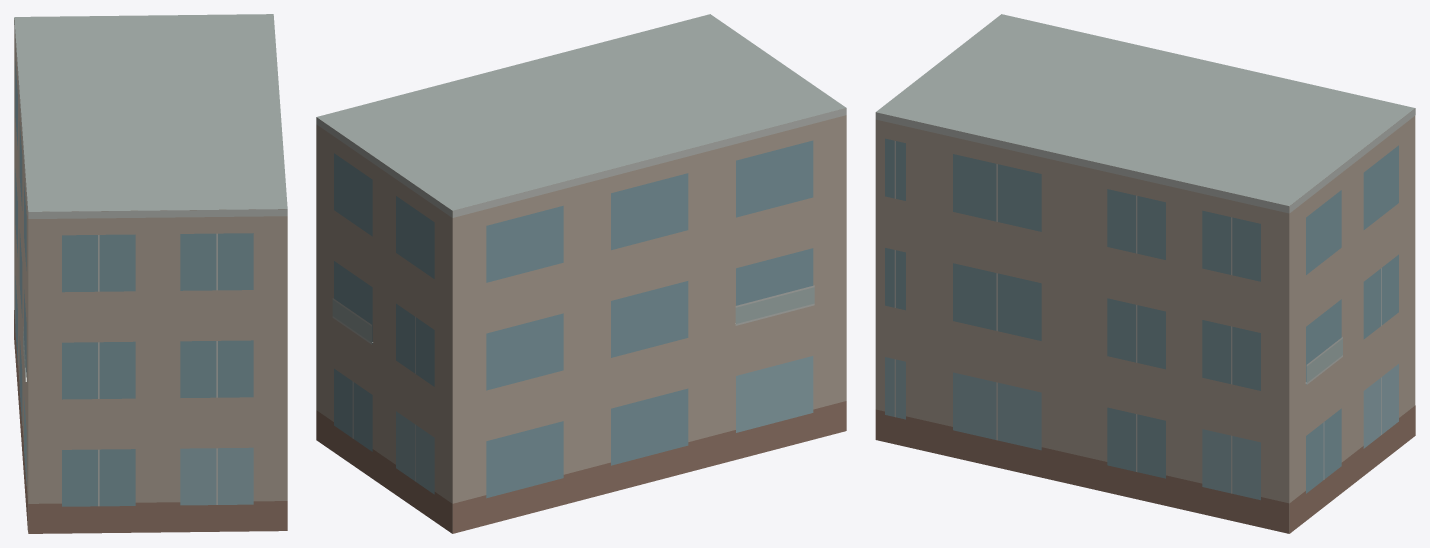
Rendered from survey-upis-32470266.glb.
3 views of the same model, side by side, from view 1: azimuth 30°, elevation 25°; view 2: azimuth 150°, elevation 25°; view 3: azimuth 270°, elevation 25° (orthographic).
Parts seen in each view (by area): view 1: survey-upis-32470266.tmp; view 2: survey-upis-32470266.tmp; view 3: survey-upis-32470266.tmp.
Part boxes in pixels (x1=…): survey-upis-32470266.tmp: x1=14, y1=14, x2=287, y2=533; survey-upis-32470266.tmp: x1=316, y1=14, x2=846, y2=533; survey-upis-32470266.tmp: x1=875, y1=14, x2=1415, y2=533.
Size of the model in its own units: 13.72 by 10.9 by 16.28.
